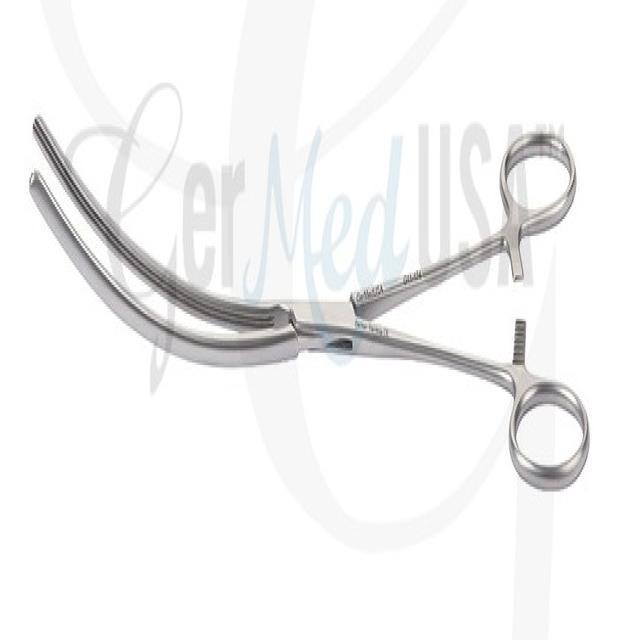Doyel Instestinal Forceps: (25, 71, 592, 499)
